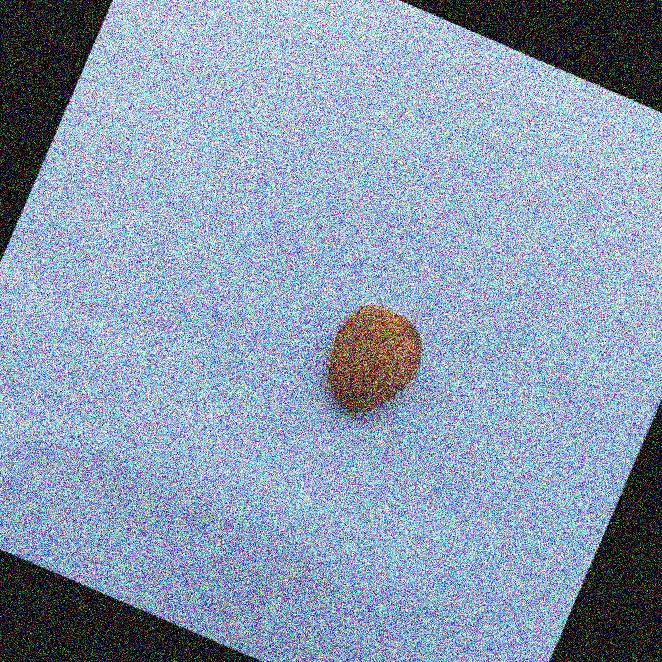grade1: (298, 284, 444, 441)
